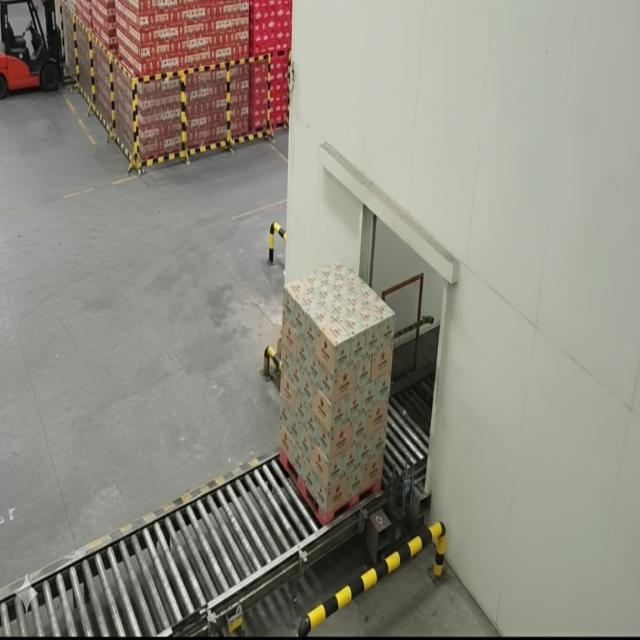pallet: (275, 257, 397, 540)
